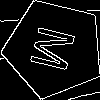M: (29, 24, 86, 76)
